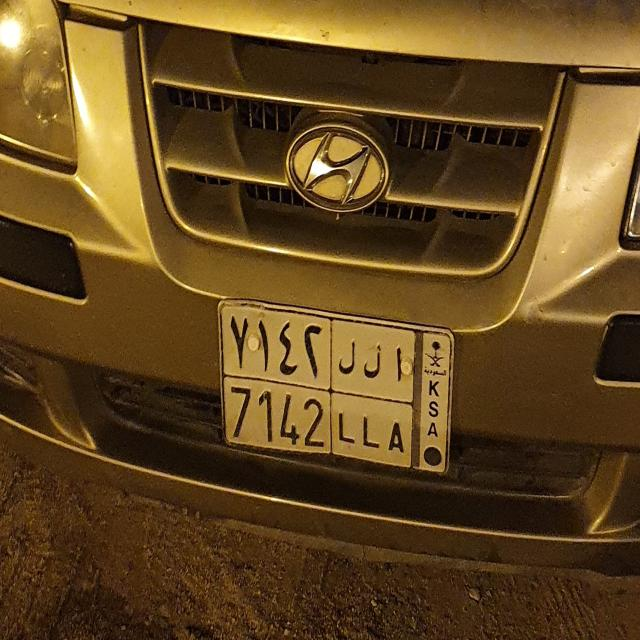license_plate: (217, 295, 457, 480)
